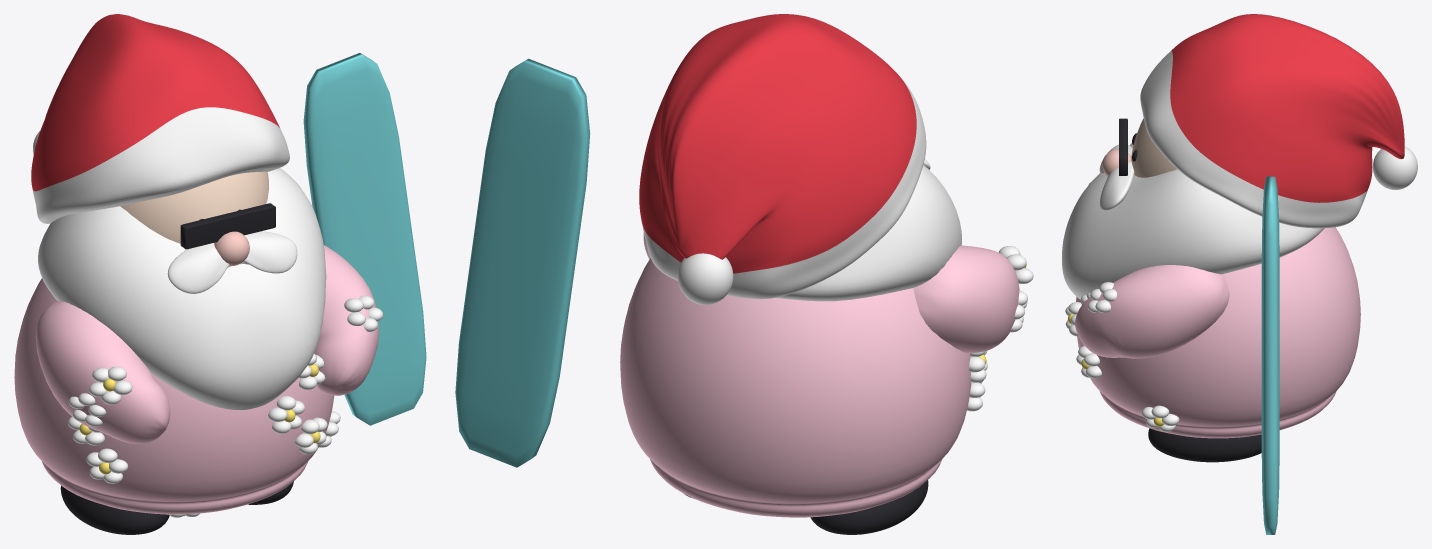
The model's file is surfer.glb.
3 views of the same model, side by side, from view 1: azimuth 30°, elevation 25°; view 2: azimuth 150°, elevation 25°; view 3: azimuth 270°, elevation 25° (orthographic). The views are drawn at different scales.
Visible parts, largest first — view 1: surfer_white, surfer_lightpink, surfer_teal, surfer_red, surfer_black, surfer_skin, surfer_nose, surfer_yellow; view 2: surfer_lightpink, surfer_red, surfer_teal, surfer_white, surfer_black; view 3: surfer_lightpink, surfer_red, surfer_white, surfer_teal, surfer_black, surfer_skin.
Part boxes in pixels (x1,y1,x2,y2): surfer_white: [32, 107, 383, 517]; surfer_lightpink: [14, 245, 378, 514]; surfer_teal: [303, 53, 426, 425]; surfer_red: [31, 14, 279, 191]; surfer_black: [60, 203, 293, 534]; surfer_skin: [120, 171, 268, 243]; surfer_nose: [214, 231, 249, 265]; surfer_yellow: [79, 364, 331, 516]; surfer_lightpink: [620, 233, 1019, 517]; surfer_red: [639, 14, 916, 273]; surfer_teal: [455, 58, 590, 467]; surfer_white: [641, 78, 1033, 411]; surfer_black: [684, 480, 928, 534]; surfer_lightpink: [1075, 227, 1360, 438]; surfer_red: [1170, 14, 1404, 202]; surfer_white: [1062, 50, 1417, 431]; surfer_teal: [1261, 176, 1279, 534]; surfer_black: [1119, 118, 1261, 462]; surfer_skin: [1131, 118, 1177, 177].
Bounding box in the file's own units: 2.97 × 2.96 × 2.37.
